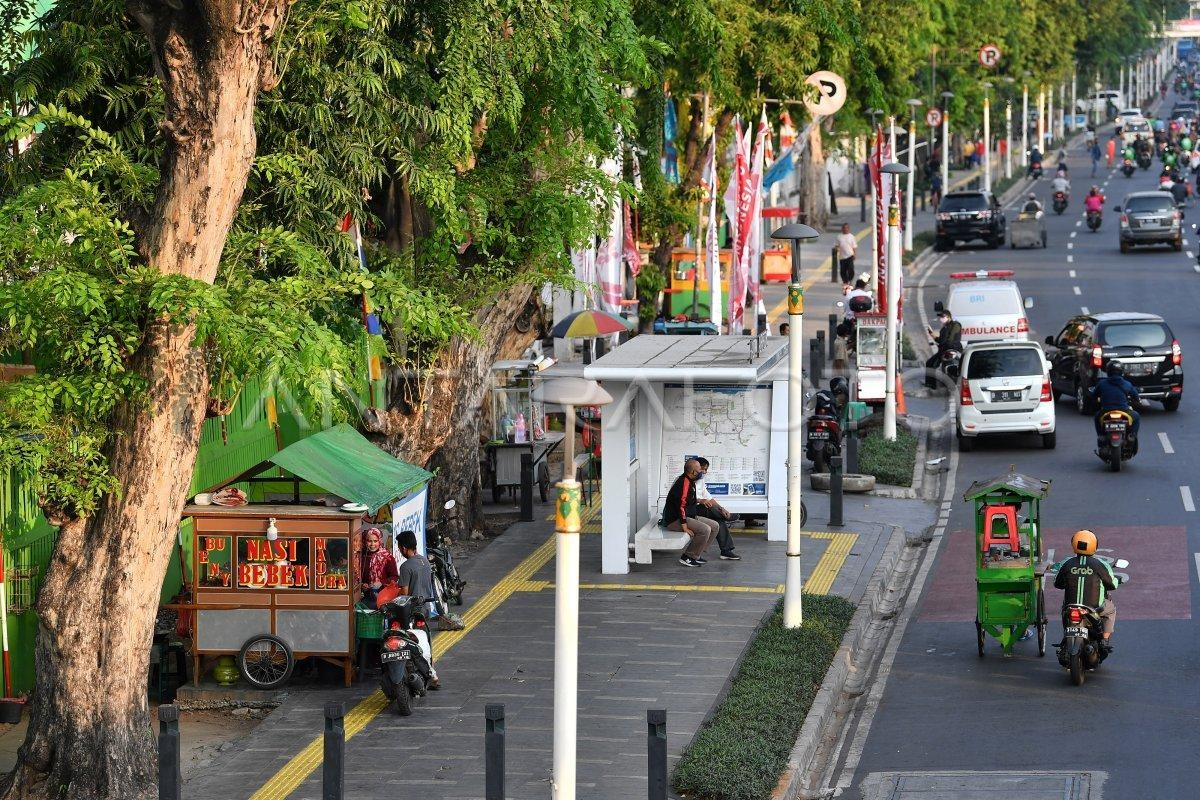Gerobak: (168, 420, 438, 692), (966, 476, 1050, 660), (480, 360, 570, 504), (846, 312, 906, 404)
Payung: (546, 308, 630, 340)
